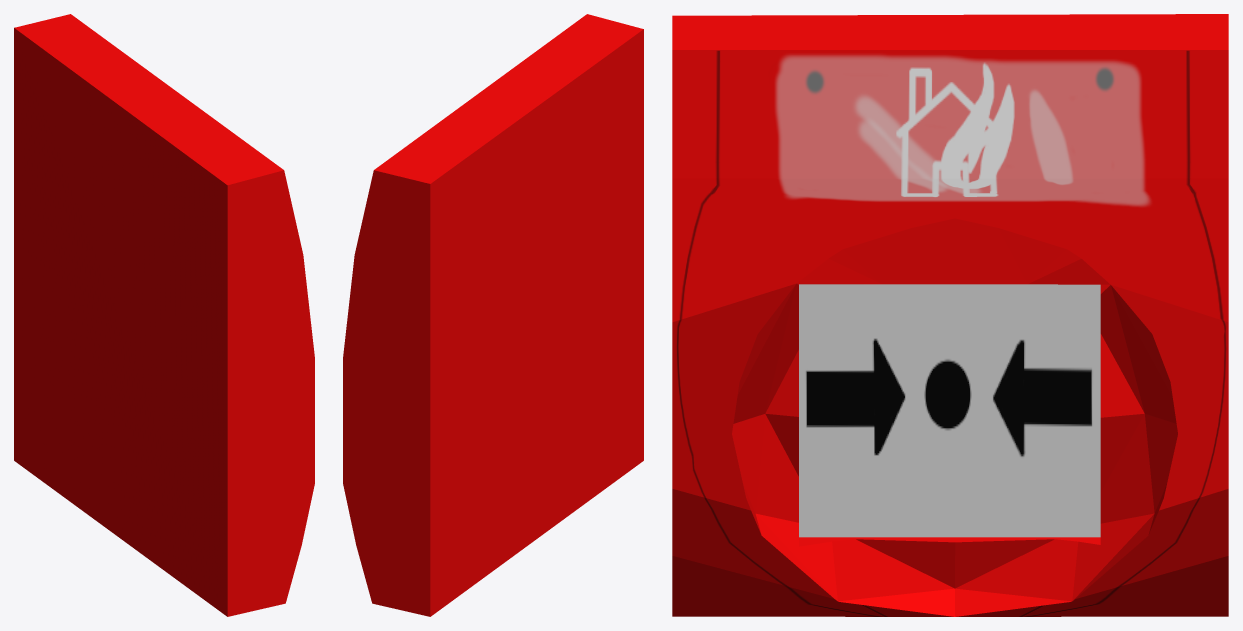
Rendered from FireAlarmButton.fbx.
3 renders of one model, left to right at view 1: azimuth 30°, elevation 25°; view 2: azimuth 150°, elevation 25°; view 3: azimuth 270°, elevation 25°, orthographic. The views are drawn at different scales.
Visible parts, largest first — view 1: Plane; view 2: Plane; view 3: Plane.
Boxes of the visible parts, left/top/right/bottom form: Plane: left=14, top=14, right=314, bottom=616; Plane: left=343, top=14, right=643, bottom=616; Plane: left=672, top=14, right=1228, bottom=616.
Size of the model in its own units: 116 by 512 by 456.
1 material, 1 textured.
